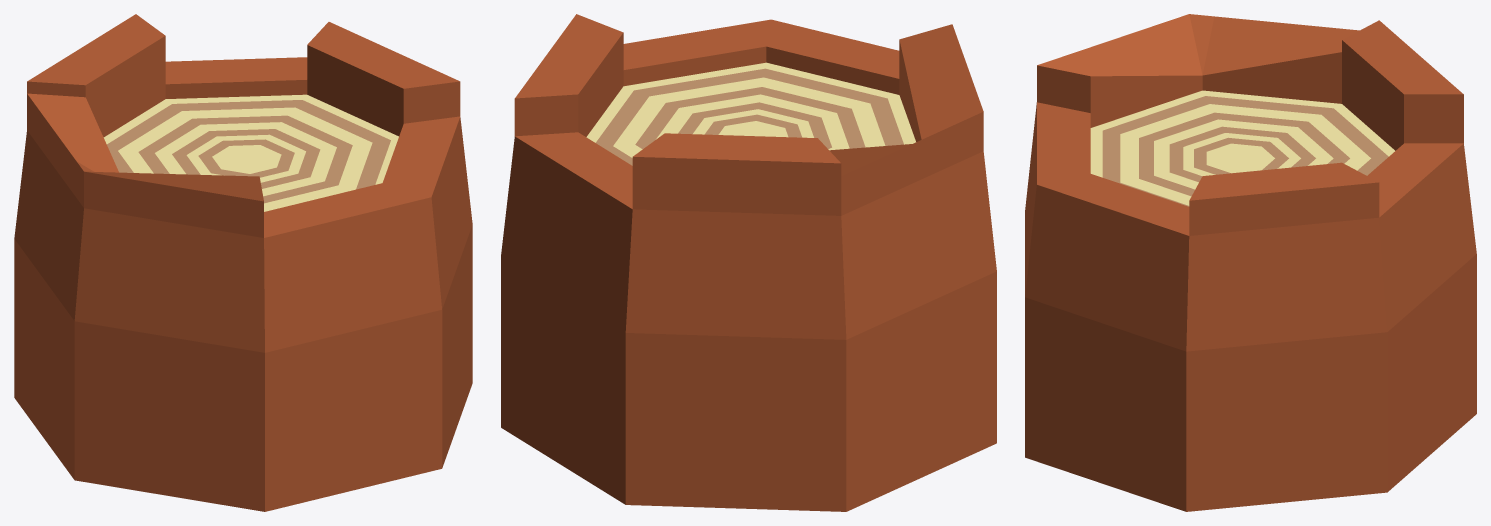
File: TreeStump.fbx
3 views of the same model, side by side, from view 1: azimuth 30°, elevation 25°; view 2: azimuth 150°, elevation 25°; view 3: azimuth 270°, elevation 25° (orthographic). The views are drawn at different scales.
Parts seen in each view (by area): view 1: Cylinder; view 2: Cylinder; view 3: Cylinder.
Boxes of the visible parts, <box> form: Cylinder: <box>14,14,472,511</box>; Cylinder: <box>501,14,996,511</box>; Cylinder: <box>1025,14,1476,511</box>.
Size of the model in its own units: 195 by 148 by 190.
